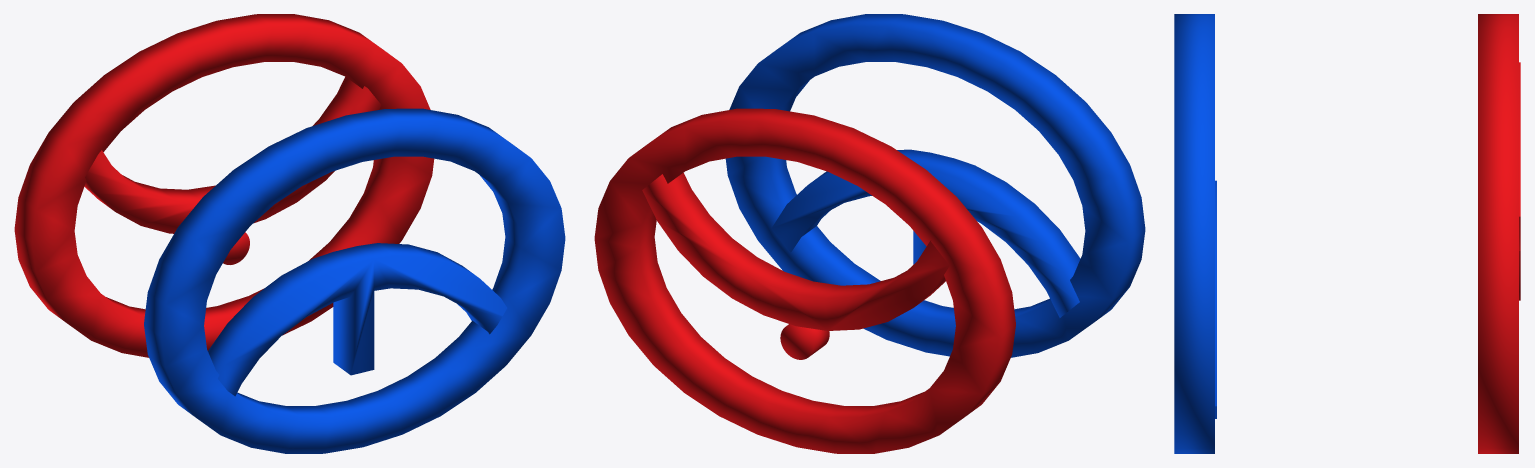
The model's file is Totoya x Mitsu.fbx.
The picture shows the model from 3 angles, left to right: view 1: azimuth 30°, elevation 25°; view 2: azimuth 150°, elevation 25°; view 3: azimuth 270°, elevation 25°; orthographic projection. The views are drawn at different scales.
Parts seen in each view (by area): view 1: MLogo, TLogo; view 2: TLogo, MLogo; view 3: TLogo, MLogo.
Part boxes in pixels (x1=…): MLogo: x1=144, y1=108, x2=565, y2=453; TLogo: x1=14, y1=14, x2=434, y2=357; TLogo: x1=594, y1=108, x2=1015, y2=453; MLogo: x1=725, y1=14, x2=1145, y2=357; TLogo: x1=1478, y1=14, x2=1520, y2=453; MLogo: x1=1174, y1=14, x2=1216, y2=453.
Bounding box in the file's own units: 326 × 246 × 207.
